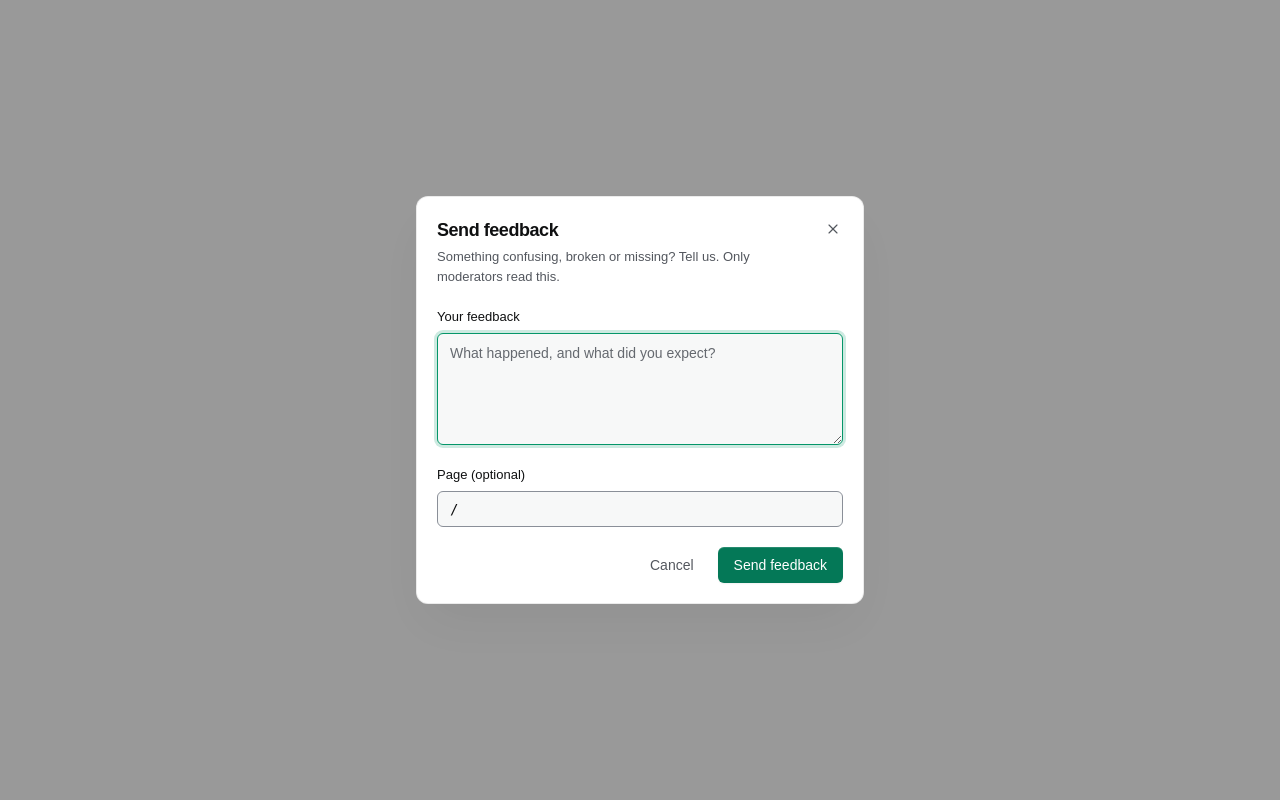
FeedbackDialog › asks for a message before sending
The width and height of the screenshot is (1280, 800).
Click the button "Send feedback". click: (780, 565)
box: x1=718 y1=547 x2=843 y2=583
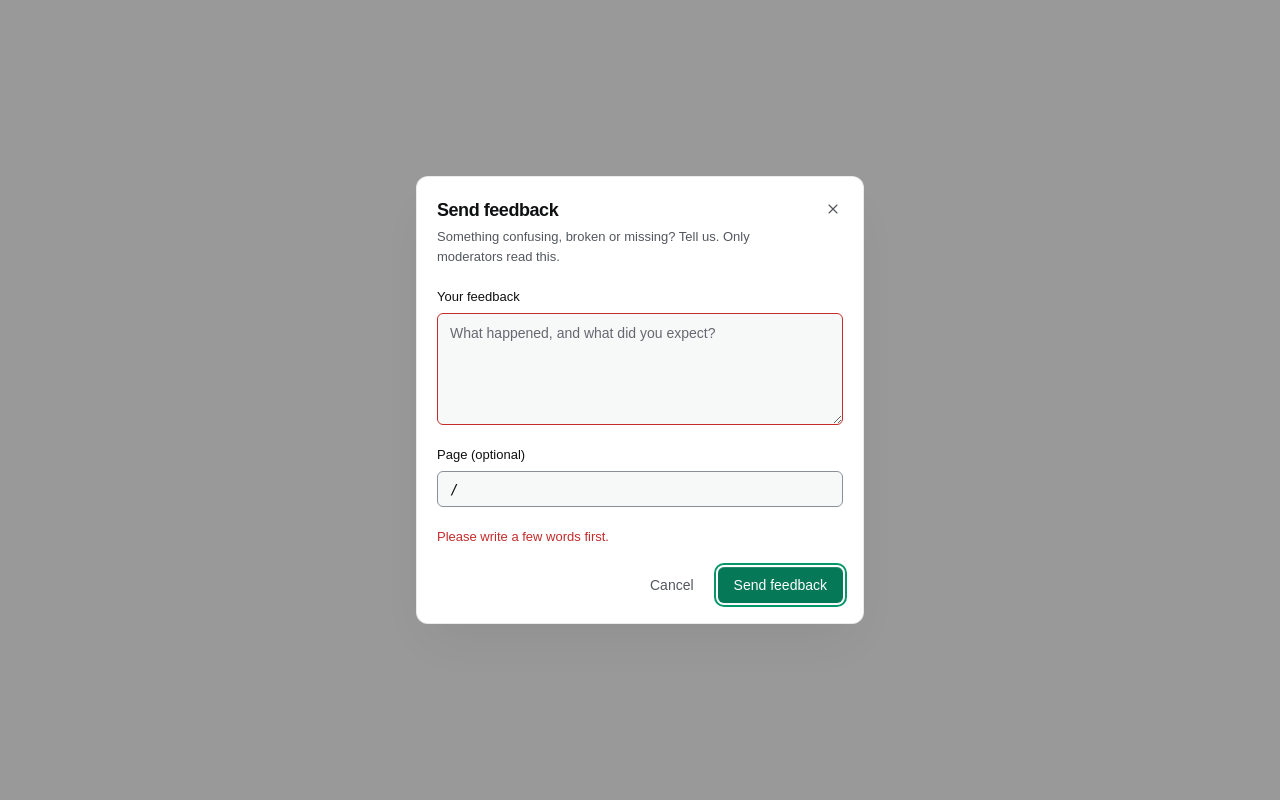
Now the message reads "Please write a few words first.", box x1=437 y1=529 x2=609 y2=544
